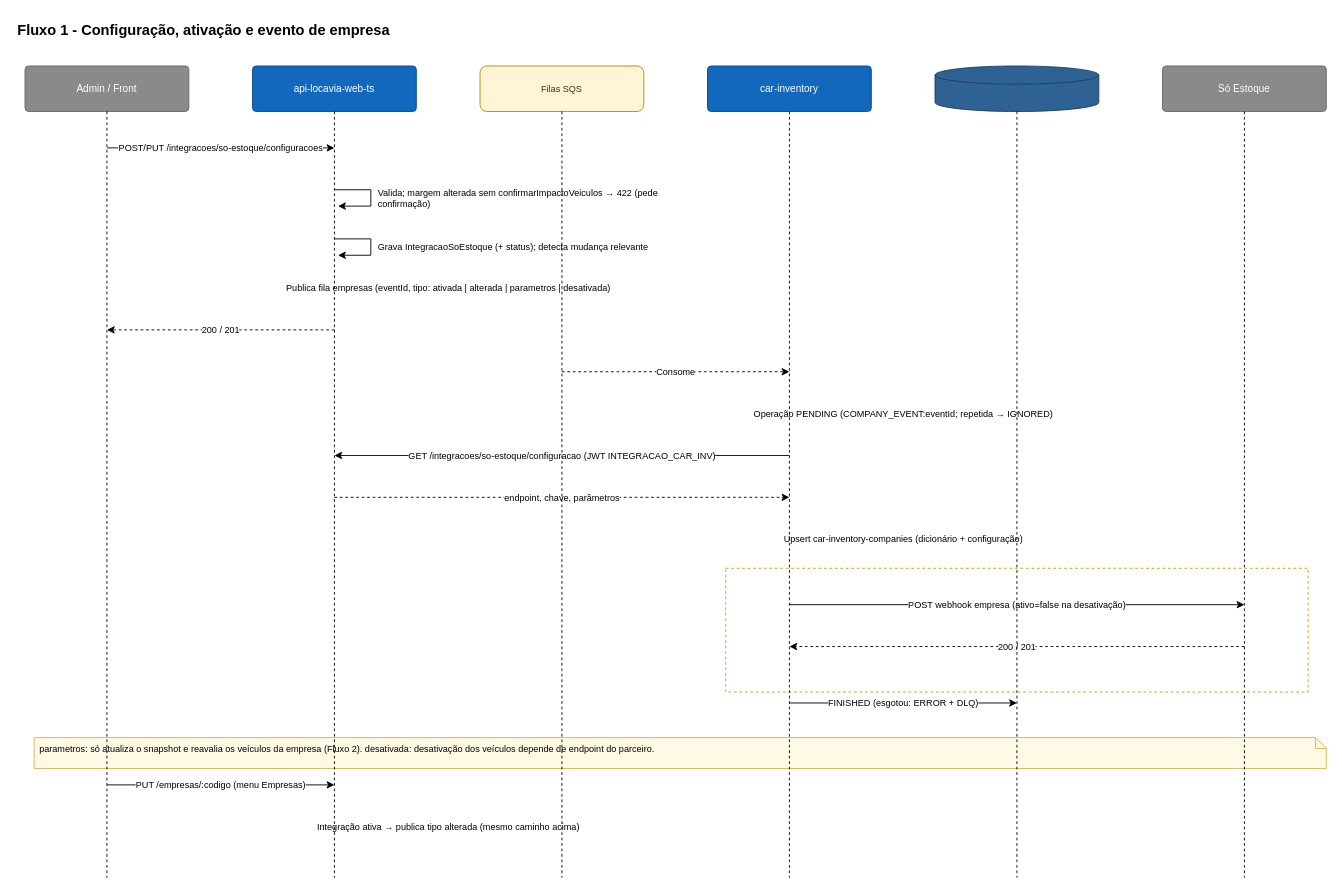
Image size: 1342x895. Some labels were removed from this diagram. The shapes that lost their labels are listed below. From the top down, each one's box as (x1, y1, x2, y2) in pixels, then its label:
(934, 65, 1099, 111): DynamoDB
(725, 567, 1308, 692): ativada | alterada | desativada · até 2xx ou maxAttempts
